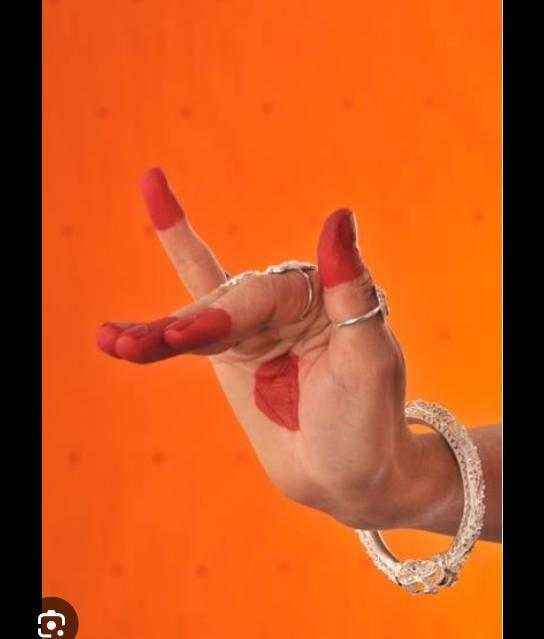mrighasheesh: (97, 168, 485, 600)
